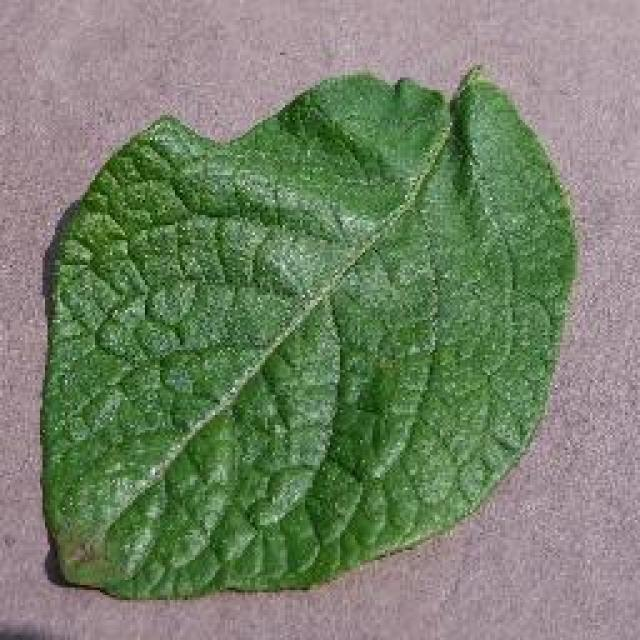Potato___healthy: (41, 61, 579, 600)
